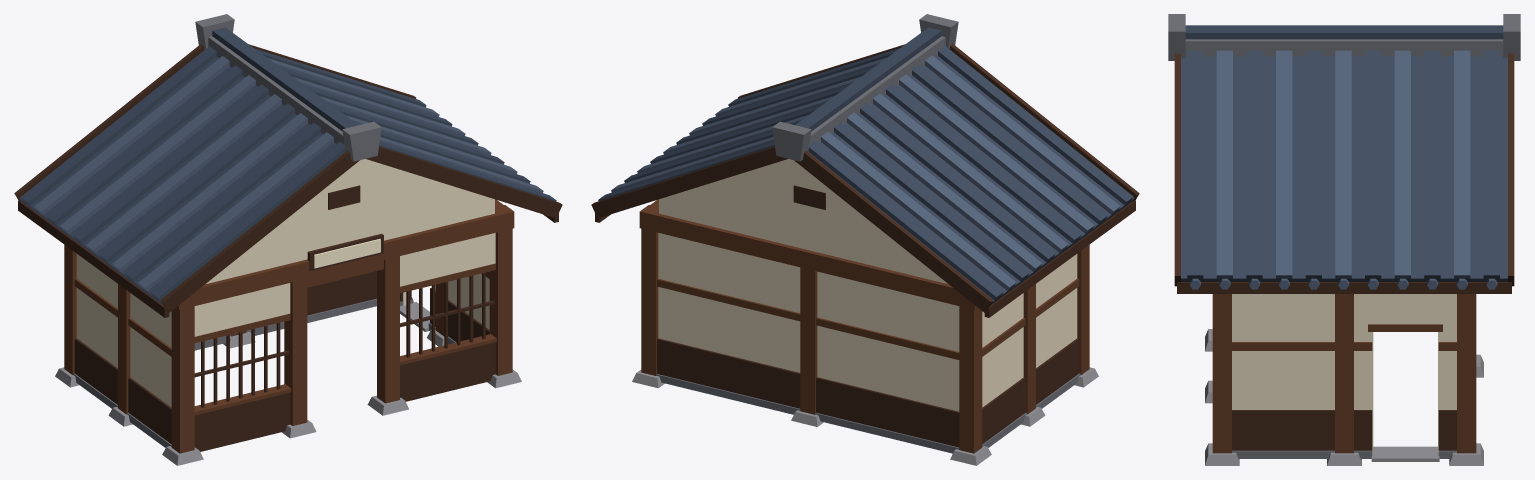
File: StarterShop.fbx
3 views of the same model, side by side, from view 1: azimuth 30°, elevation 25°; view 2: azimuth 150°, elevation 25°; view 3: azimuth 270°, elevation 25° (orthographic). The views are drawn at different scales.
Parts seen in each view (by area): view 1: StarterShop_Roof_roof_dk, StarterShop_timber, StarterShop_Roof_roof, StarterShop_timber_dk, StarterShop_plaster, StarterShop_Roof_plaster, StarterShop_Roof_timber_dk, StarterShop_Roof_timber, StarterShop_Roof_stone_dk, StarterShop_stone, StarterShop_stone_dk, StarterShop_paper; view 2: StarterShop_Roof_roof_dk, StarterShop_plaster, StarterShop_Roof_roof, StarterShop_timber, StarterShop_timber_dk, StarterShop_Roof_plaster, StarterShop_Roof_timber_dk, StarterShop_Roof_timber, StarterShop_Roof_stone_dk, StarterShop_stone_dk, StarterShop_stone; view 3: StarterShop_Roof_roof_dk, StarterShop_Roof_roof, StarterShop_plaster, StarterShop_timber, StarterShop_Roof_timber_dk, StarterShop_Roof_stone_dk, StarterShop_timber_dk, StarterShop_stone, StarterShop_stone_dk.
Boxes of the visible parts, bbox=[...] form: StarterShop_Roof_roof_dk: bbox=[19, 27, 556, 305]; StarterShop_timber: bbox=[64, 228, 512, 453]; StarterShop_Roof_roof: bbox=[34, 56, 543, 291]; StarterShop_timber_dk: bbox=[74, 233, 495, 451]; StarterShop_plaster: bbox=[76, 233, 495, 407]; StarterShop_Roof_plaster: bbox=[205, 159, 494, 284]; StarterShop_Roof_timber_dk: bbox=[14, 44, 562, 317]; StarterShop_Roof_timber: bbox=[176, 199, 514, 309]; StarterShop_Roof_stone_dk: bbox=[195, 14, 381, 161]; StarterShop_stone: bbox=[55, 297, 521, 465]; StarterShop_stone_dk: bbox=[73, 298, 455, 447]; StarterShop_paper: bbox=[314, 239, 380, 268]; StarterShop_Roof_roof_dk: bbox=[598, 27, 1134, 305]; StarterShop_plaster: bbox=[658, 233, 1077, 411]; StarterShop_Roof_roof: bbox=[611, 55, 1120, 290]; StarterShop_timber: bbox=[641, 228, 1089, 453]; StarterShop_timber_dk: bbox=[657, 338, 1079, 447]; StarterShop_Roof_plaster: bbox=[659, 159, 948, 284]; StarterShop_Roof_timber_dk: bbox=[591, 44, 1139, 317]; StarterShop_Roof_timber: bbox=[639, 199, 977, 309]; StarterShop_Roof_stone_dk: bbox=[772, 14, 958, 161]; StarterShop_stone_dk: bbox=[656, 373, 1080, 453]; StarterShop_stone: bbox=[632, 367, 1098, 465]; StarterShop_Roof_roof_dk: bbox=[1181, 25, 1507, 281]; StarterShop_Roof_roof: bbox=[1189, 50, 1497, 289]; StarterShop_plaster: bbox=[1232, 294, 1456, 454]; StarterShop_timber: bbox=[1212, 294, 1476, 453]; StarterShop_Roof_timber_dk: bbox=[1174, 53, 1514, 293]; StarterShop_Roof_stone_dk: bbox=[1168, 14, 1520, 60]; StarterShop_timber_dk: bbox=[1232, 410, 1456, 450]; StarterShop_stone: bbox=[1205, 329, 1483, 465]; StarterShop_stone_dk: bbox=[1232, 450, 1456, 458].
Size of the model in its own units: 30.22 by 21.96 by 20.2.
